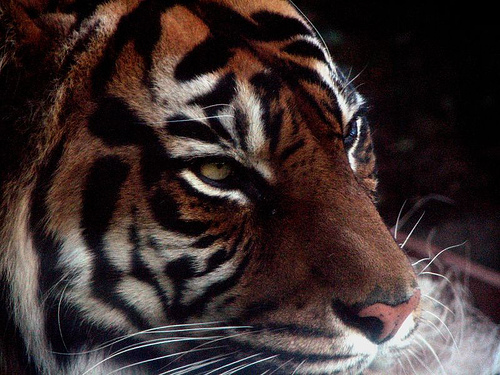Tigre: (12, 6, 421, 371)
